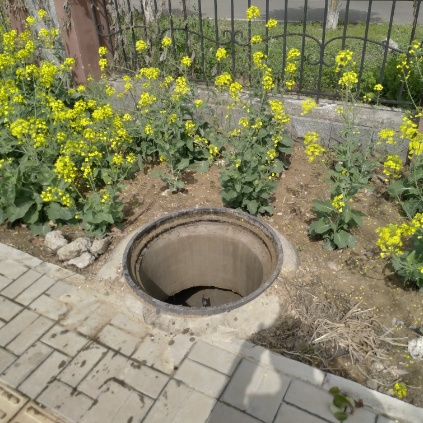lose: (121, 205, 283, 318)
